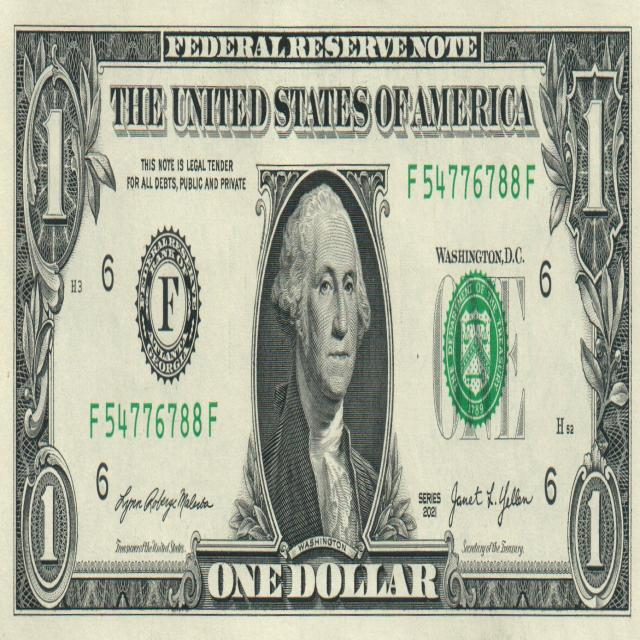SerialNumber: (90, 403, 217, 438), (422, 165, 535, 199)
